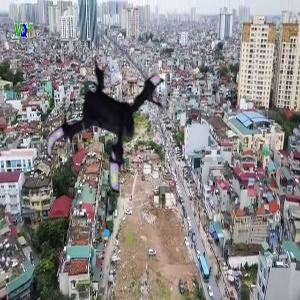drone: (36, 42, 190, 196)
